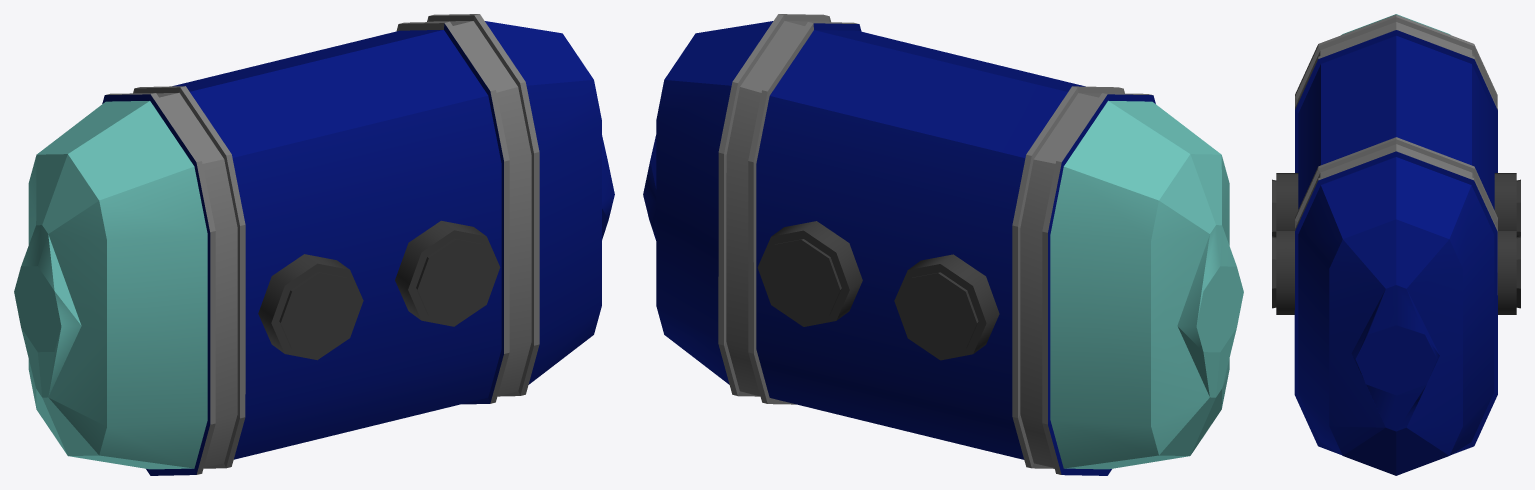
The model's file is SousMarinV2.FBX.
3 renders of one model, left to right at view 1: azimuth 30°, elevation 25°; view 2: azimuth 150°, elevation 25°; view 3: azimuth 270°, elevation 25°, orthographic. The views are drawn at different scales.
Parts seen in each view (by area): view 1: Cylinder044; view 2: Cylinder044; view 3: Cylinder044.
Boxes of the visible parts, x1,y1,x2,y2 form: Cylinder044: [14, 14, 614, 475]; Cylinder044: [643, 14, 1243, 475]; Cylinder044: [1272, 14, 1520, 475].
Bounding box in the file's own units: 122 × 55.92 × 80.6.
